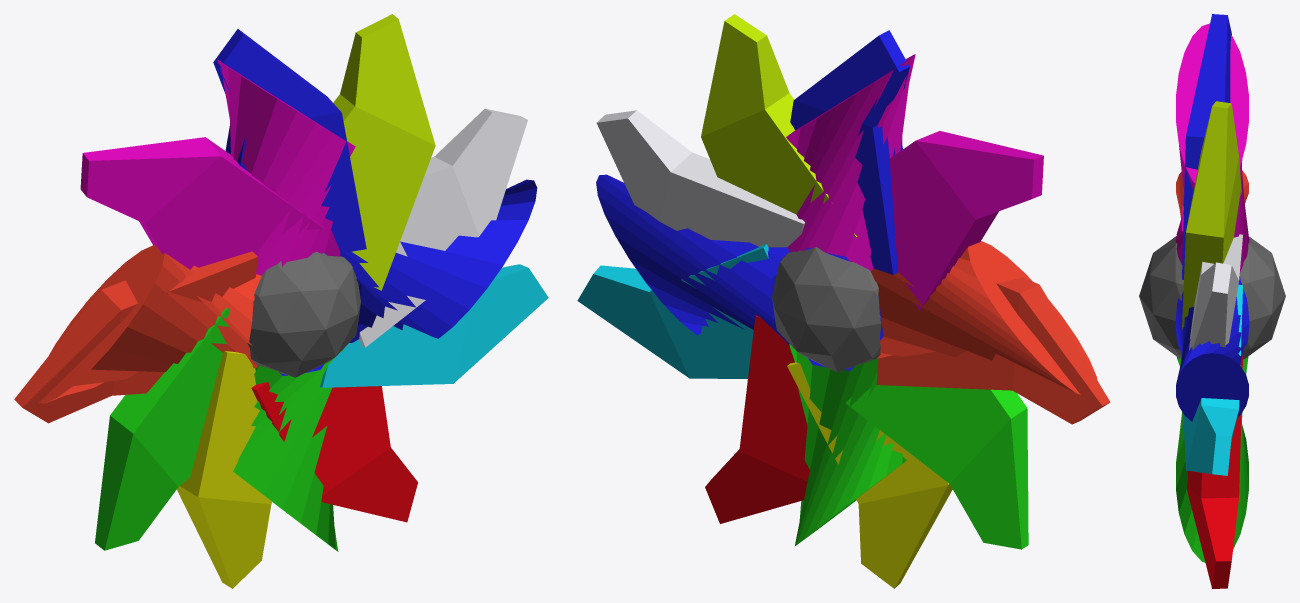
File: WINDMILL.fbx
The picture shows the model from 3 angles, left to right: view 1: azimuth 30°, elevation 25°; view 2: azimuth 150°, elevation 25°; view 3: azimuth 270°, elevation 25°; orthographic projection. The views are drawn at different scales.
Parts seen in each view (by area): view 1: Cylinder, Cube.001, Cube.008, Cube.002, Cube.007, Cube.005, Cube.004, Icosphere, Cube.006, Cube.003, Cube; view 2: Cylinder, Cube.002, Cube.001, Cube.008, Cube.005, Cube.006, Cube.003, Icosphere, Cube.004, Cube, Cube.007; view 3: Cylinder, Cube.008, Icosphere, Cube.006, Cube, Cube.005, Cube.004.
Boxes of the visible parts, left/top/right/bottom form: Cylinder: left=39, top=59, right=537, bottom=551; Cube.001: left=80, top=137, right=324, bottom=269; Cube.008: left=333, top=14, right=435, bottom=290; Cube.002: left=95, top=307, right=229, bottom=550; Cube.007: left=177, top=351, right=272, bottom=588; Cube.005: left=359, top=108, right=527, bottom=347; Cube.004: left=320, top=264, right=548, bottom=387; Icosphere: left=247, top=252, right=360, bottom=377; Cube.006: left=251, top=382, right=417, bottom=522; Cube.003: left=14, top=251, right=257, bottom=423; Cube: left=213, top=29, right=366, bottom=253; Cylinder: left=596, top=54, right=1097, bottom=545; Cube.002: left=846, top=385, right=1028, bottom=549; Cube.001: left=889, top=131, right=1043, bottom=310; Cube.008: left=701, top=14, right=857, bottom=237; Cube.005: left=596, top=110, right=805, bottom=247; Cube.006: left=705, top=315, right=809, bottom=523; Cube.003: left=876, top=277, right=1110, bottom=424; Icosphere: left=772, top=247, right=881, bottom=372; Cube.004: left=577, top=244, right=768, bottom=378; Cube: left=790, top=30, right=909, bottom=274; Cube.007: left=787, top=362, right=952, bottom=588; Cylinder: left=1175, top=23, right=1249, bottom=562; Cube.008: left=1182, top=101, right=1241, bottom=329; Icosphere: left=1139, top=236, right=1285, bottom=359; Cube.006: left=1187, top=355, right=1242, bottom=588; Cube: left=1182, top=14, right=1231, bottom=279; Cube.005: left=1189, top=234, right=1242, bottom=350; Cube.004: left=1183, top=284, right=1242, bottom=475.
Bounding box in the file's own units: 784 × 784 × 200.
